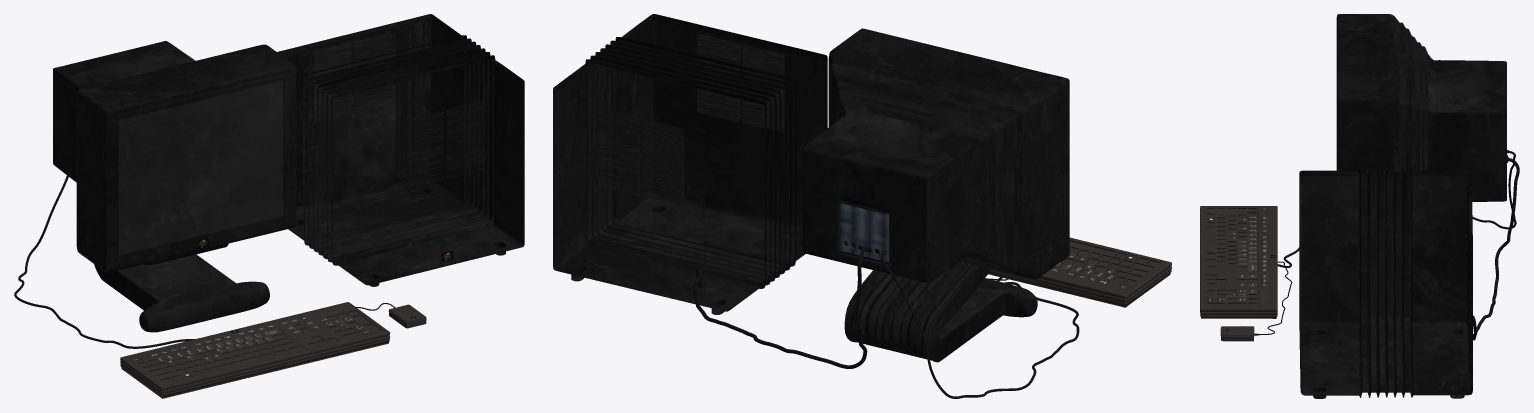
Rendered from NeXT_Cube.glb.
3 renders of one model, left to right at view 1: azimuth 30°, elevation 25°; view 2: azimuth 150°, elevation 25°; view 3: azimuth 270°, elevation 25°, orthographic. The views are drawn at different scales.
Visible parts, largest first — view 1: computer, schermo, mouse, tasti, Catenary; view 2: computer, mouse, Catenary, monitor, tasti; view 3: computer, mouse, tasti, Catenary.
Boxes of the visible parts, left/top/right/bottom form: computer: left=53, top=14, right=524, bottom=332; schermo: left=119, top=81, right=282, bottom=255; mouse: left=120, top=302, right=426, bottom=398; tasti: left=133, top=317, right=371, bottom=377; Catenary: left=14, top=175, right=394, bottom=348; computer: left=553, top=14, right=1069, bottom=362; mouse: left=988, top=237, right=1171, bottom=307; Catenary: left=693, top=245, right=1079, bottom=398; monitor: left=840, top=203, right=888, bottom=262; tasti: left=1050, top=252, right=1136, bottom=288; computer: left=1299, top=14, right=1506, bottom=398; mouse: left=1200, top=206, right=1277, bottom=341; tasti: left=1206, top=208, right=1266, bottom=301; Catenary: left=1254, top=150, right=1519, bottom=340.
Bounding box in the file's own units: 0.8428 × 0.4338 × 0.591.
Materials: 7 (6 with a texture image).
